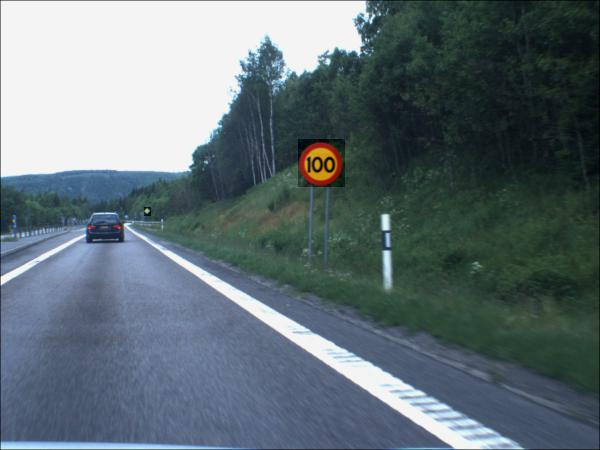100_SIGN: (299, 140, 347, 189)
PRIORITY_ROAD: (146, 208, 154, 218)
